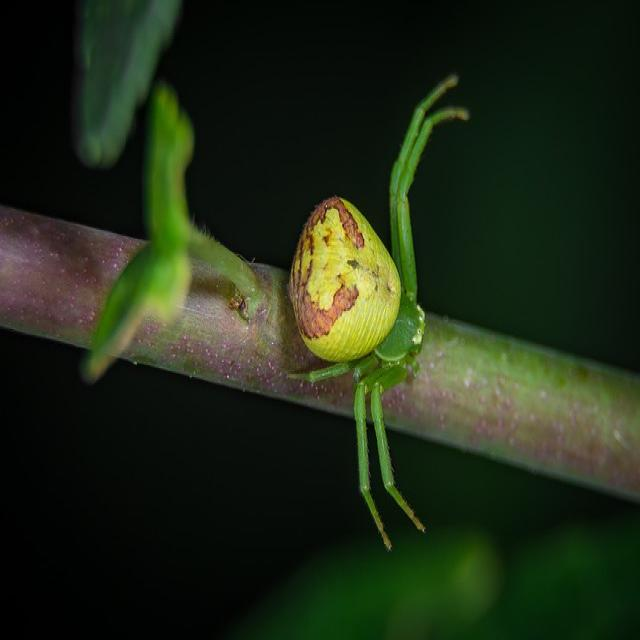spyder: (288, 74, 471, 554)
